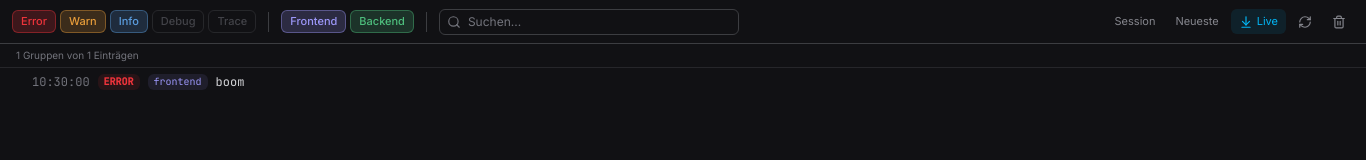
LogViewer — toolbar interactions › toggles a severity filter off when its button is clicked
This screenshot has width=1366, height=160.
Expected: the text "boom" is shown, x1=216 y1=74 x2=244 y2=90
Click the button "Error".
click(34, 22)  # box x1=12 y1=10 x2=56 y2=33
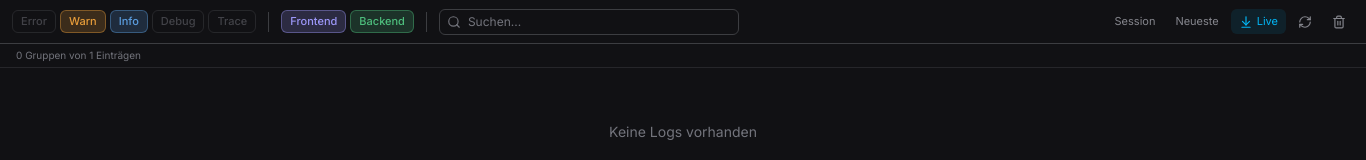
Now the text "boom" is gone
